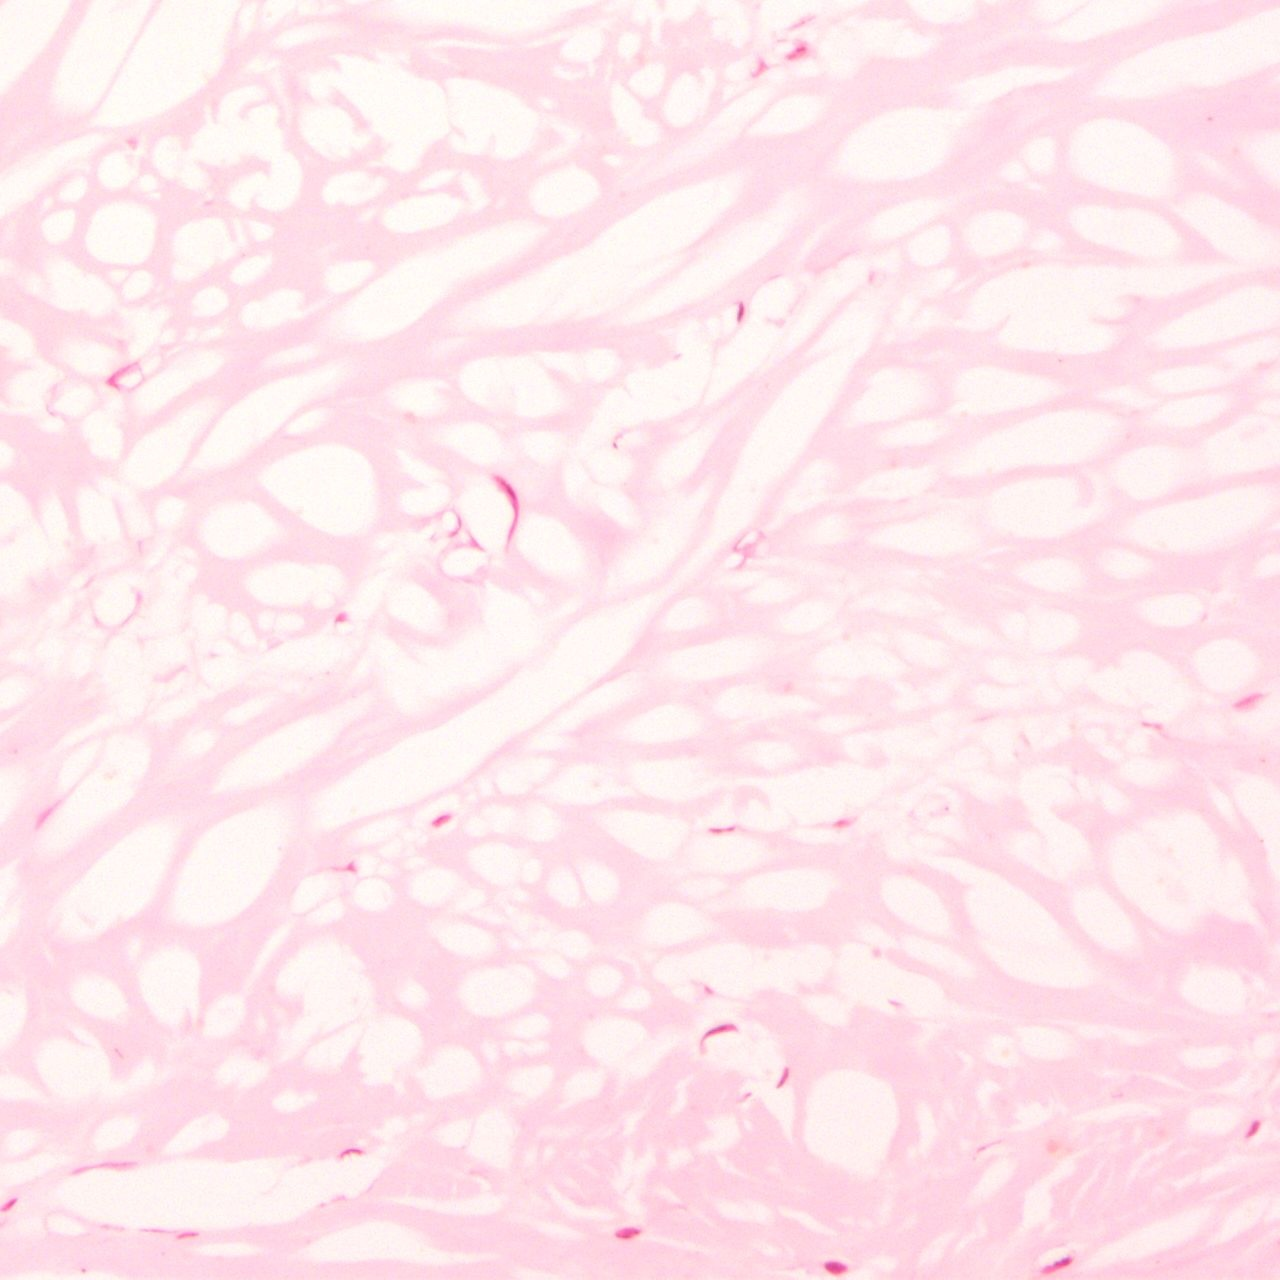dust: (611, 441, 618, 449)
nucleus-AC: (1039, 1254, 1074, 1276), (612, 1223, 644, 1242), (822, 1260, 847, 1276)
